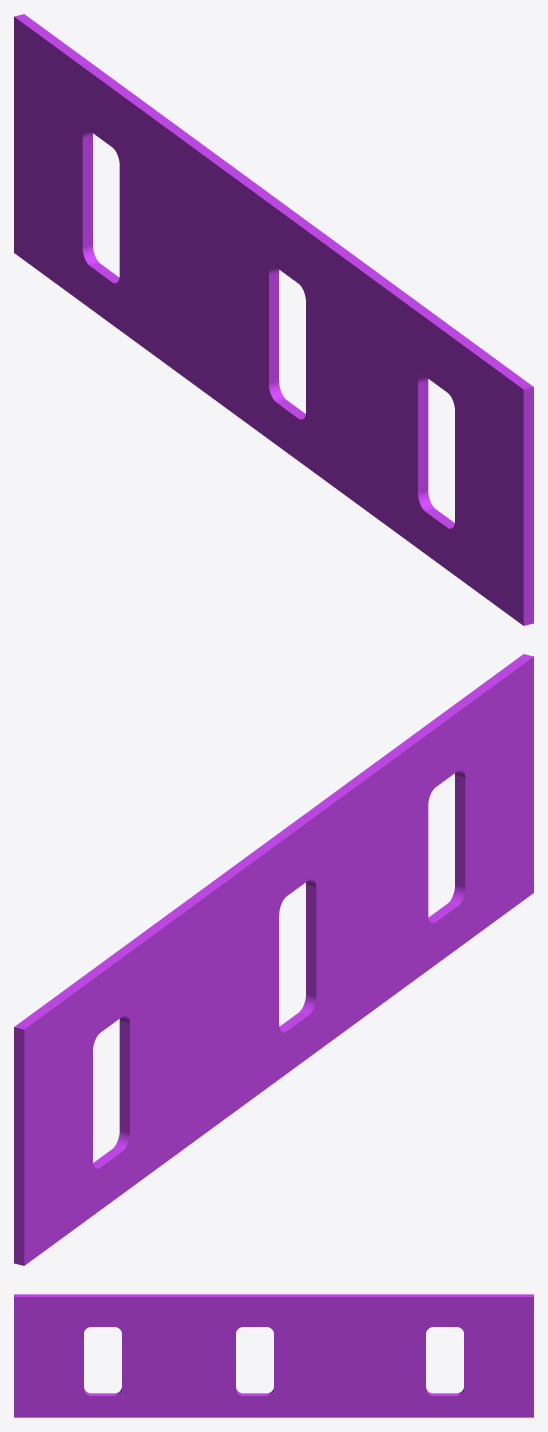
The model's file is pared06.gltf.
The picture shows the model from 3 angles, top to bottom: view 1: azimuth 30°, elevation 25°; view 2: azimuth 150°, elevation 25°; view 3: azimuth 270°, elevation 25°; orthographic projection. The views are drawn at different scales.
Parts seen in each view (by area): view 1: Object_24; view 2: Object_24; view 3: Object_24.
Part boxes in pixels (<box>): Object_24: <box>14,14,533,625</box>; Object_24: <box>14,654,533,1265</box>; Object_24: <box>14,1294,533,1417</box>.
Size of the model in its own units: 0.16 by 3.5 by 13.68.
